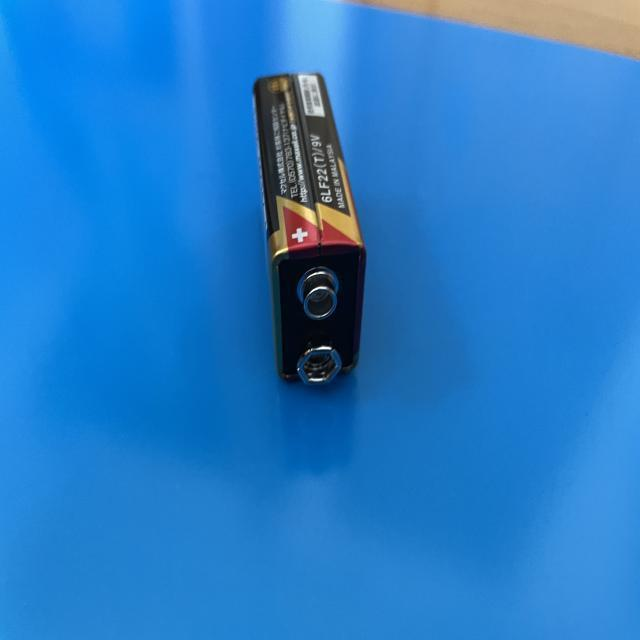9V: (251, 72, 366, 389)
